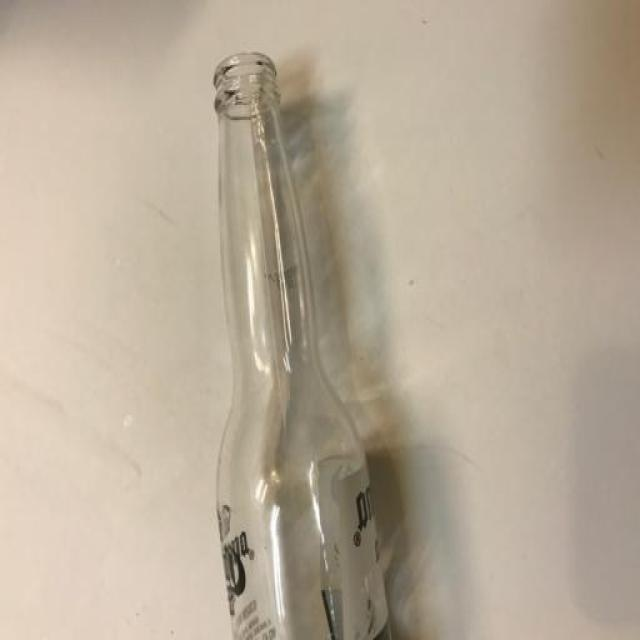glass: (214, 48, 390, 640)
